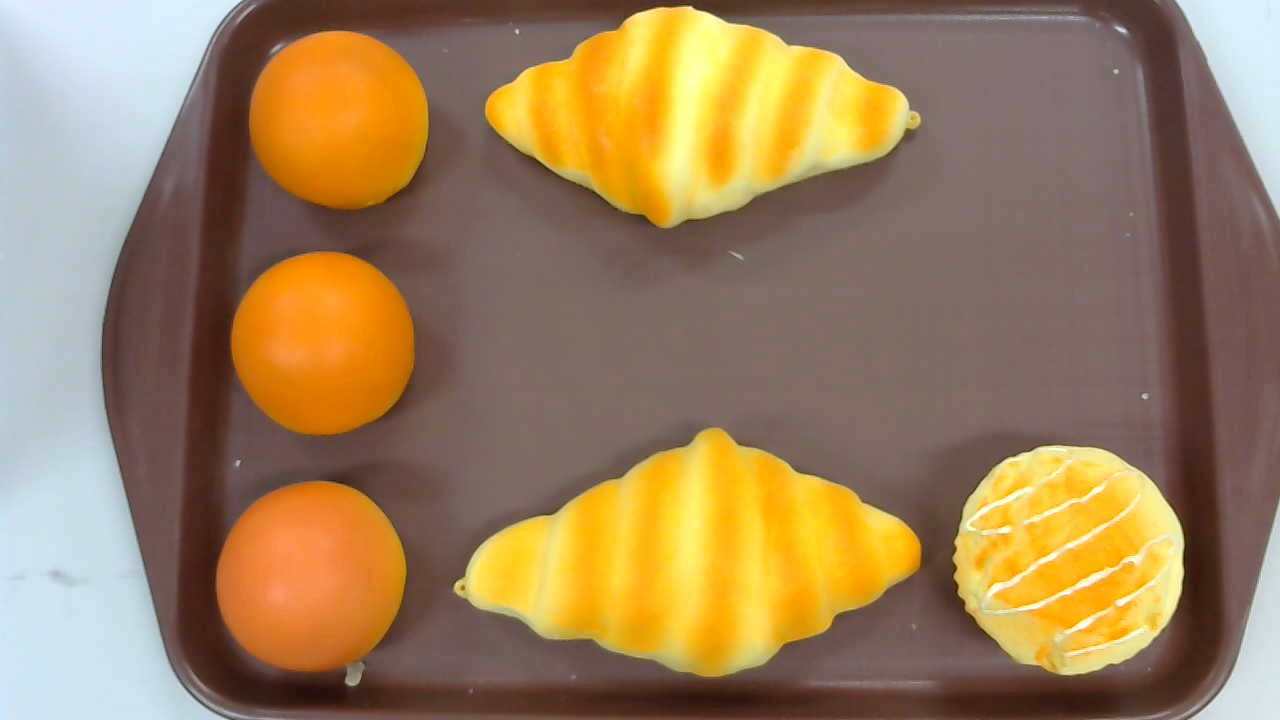bun: (216, 480, 406, 673), (229, 250, 415, 436), (247, 30, 428, 211)
croissant: (453, 428, 923, 678), (485, 3, 921, 228)
cupcake: (952, 443, 1185, 677)
